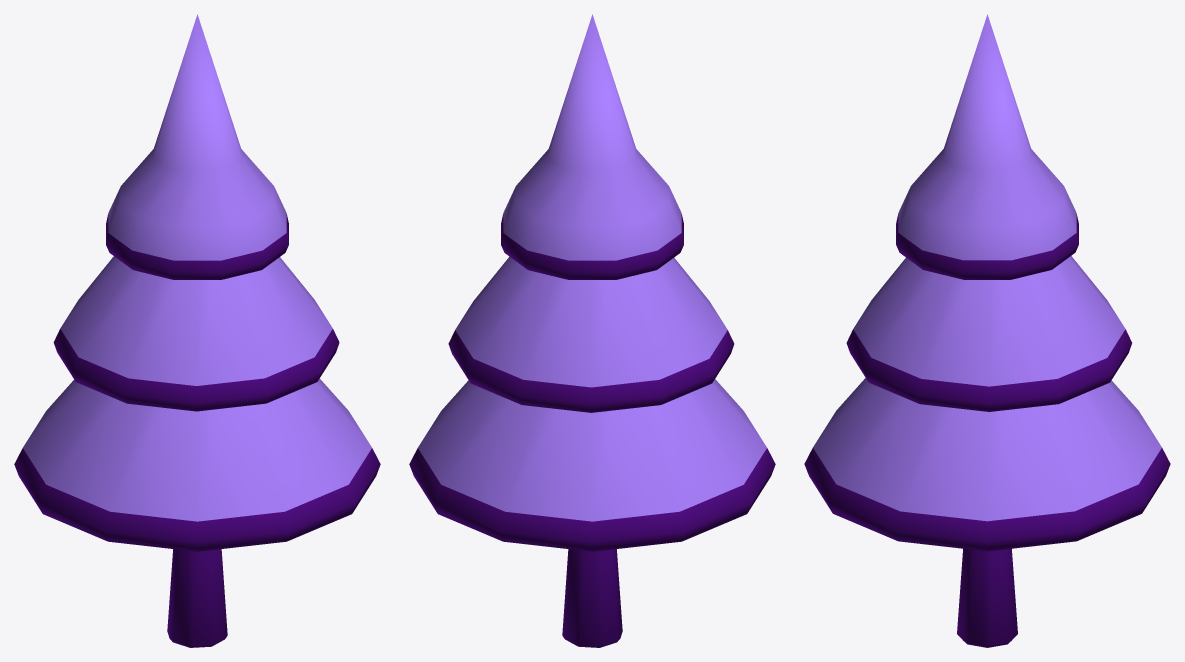
Rendered from tree_violet.fbx.
The picture shows the model from 3 angles, left to right: view 1: azimuth 30°, elevation 25°; view 2: azimuth 150°, elevation 25°; view 3: azimuth 270°, elevation 25°; orthographic projection.
Parts seen in each view (by area): view 1: tree_violet; view 2: tree_violet; view 3: tree_violet.
Boxes of the visible parts, left/top/right/bottom form: tree_violet: left=14, top=14, right=380, bottom=647; tree_violet: left=409, top=14, right=775, bottom=647; tree_violet: left=804, top=14, right=1170, bottom=647.
Bounding box in the file's own units: 0.7475 × 1.4 × 0.7475.
